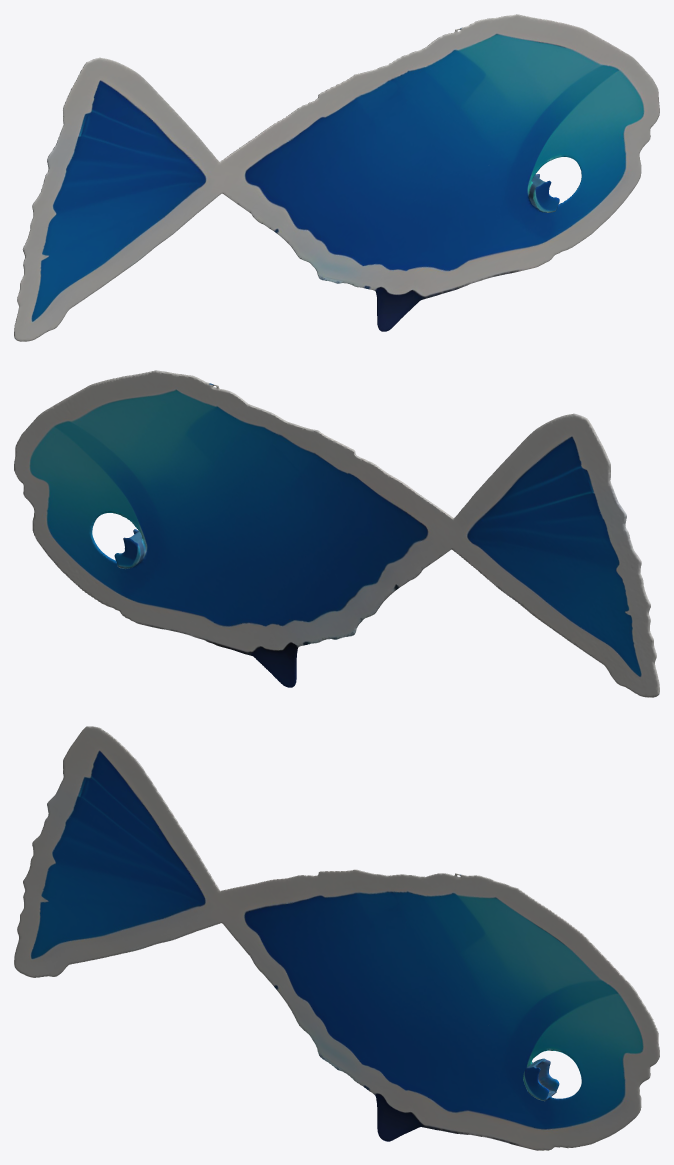
File: tripo_pbr_model_812073d8-2cfa-4342-8d01-b3dcc11aa9ce.glb
The picture shows the model from 3 angles, top to bottom: view 1: azimuth 30°, elevation 25°; view 2: azimuth 150°, elevation 25°; view 3: azimuth 330°, elevation 25°; orthographic projection.
Visible parts, largest first — view 1: tripo_node_812073d8-2cfa-4342-8d01-b3dcc11aa9ce; view 2: tripo_node_812073d8-2cfa-4342-8d01-b3dcc11aa9ce; view 3: tripo_node_812073d8-2cfa-4342-8d01-b3dcc11aa9ce.
Boxes of the visible parts, x1=… form: tripo_node_812073d8-2cfa-4342-8d01-b3dcc11aa9ce: x1=14, y1=14, x2=659, y2=341; tripo_node_812073d8-2cfa-4342-8d01-b3dcc11aa9ce: x1=14, y1=370, x2=659, y2=697; tripo_node_812073d8-2cfa-4342-8d01-b3dcc11aa9ce: x1=14, y1=726, x2=659, y2=1150.
Size of the model in its own units: 1 by 0.5088 by 0.0309.
1 material, 1 textured.
